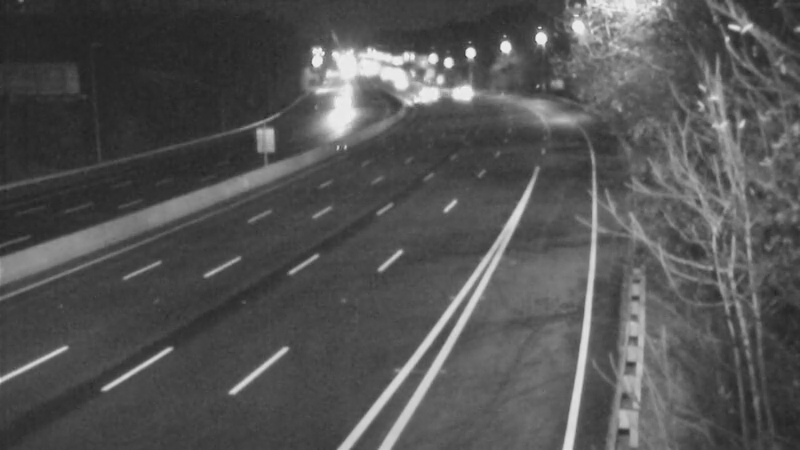vehicle: (428, 65, 478, 115), (394, 77, 444, 127), (310, 84, 360, 134)
